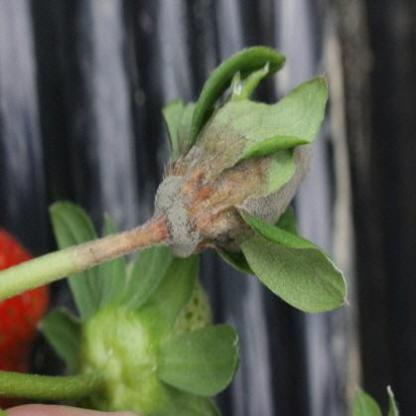Strawberry_Gray_Mold: (138, 120, 314, 259)
